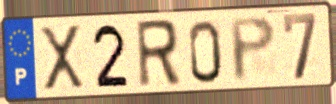0: (186, 18, 225, 86)
2: (90, 22, 131, 90)
7: (280, 10, 319, 83)
P: (227, 14, 279, 85)
R: (133, 17, 183, 91)
X: (37, 23, 87, 94)
